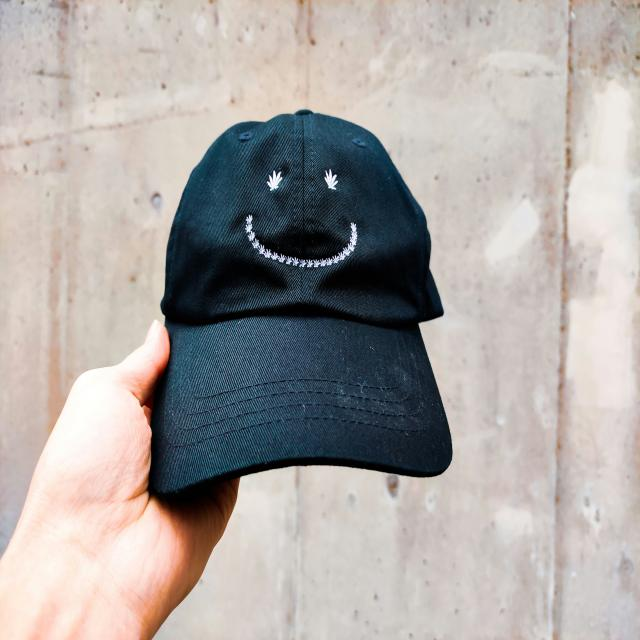no_hard_hat: (134, 105, 477, 502)
